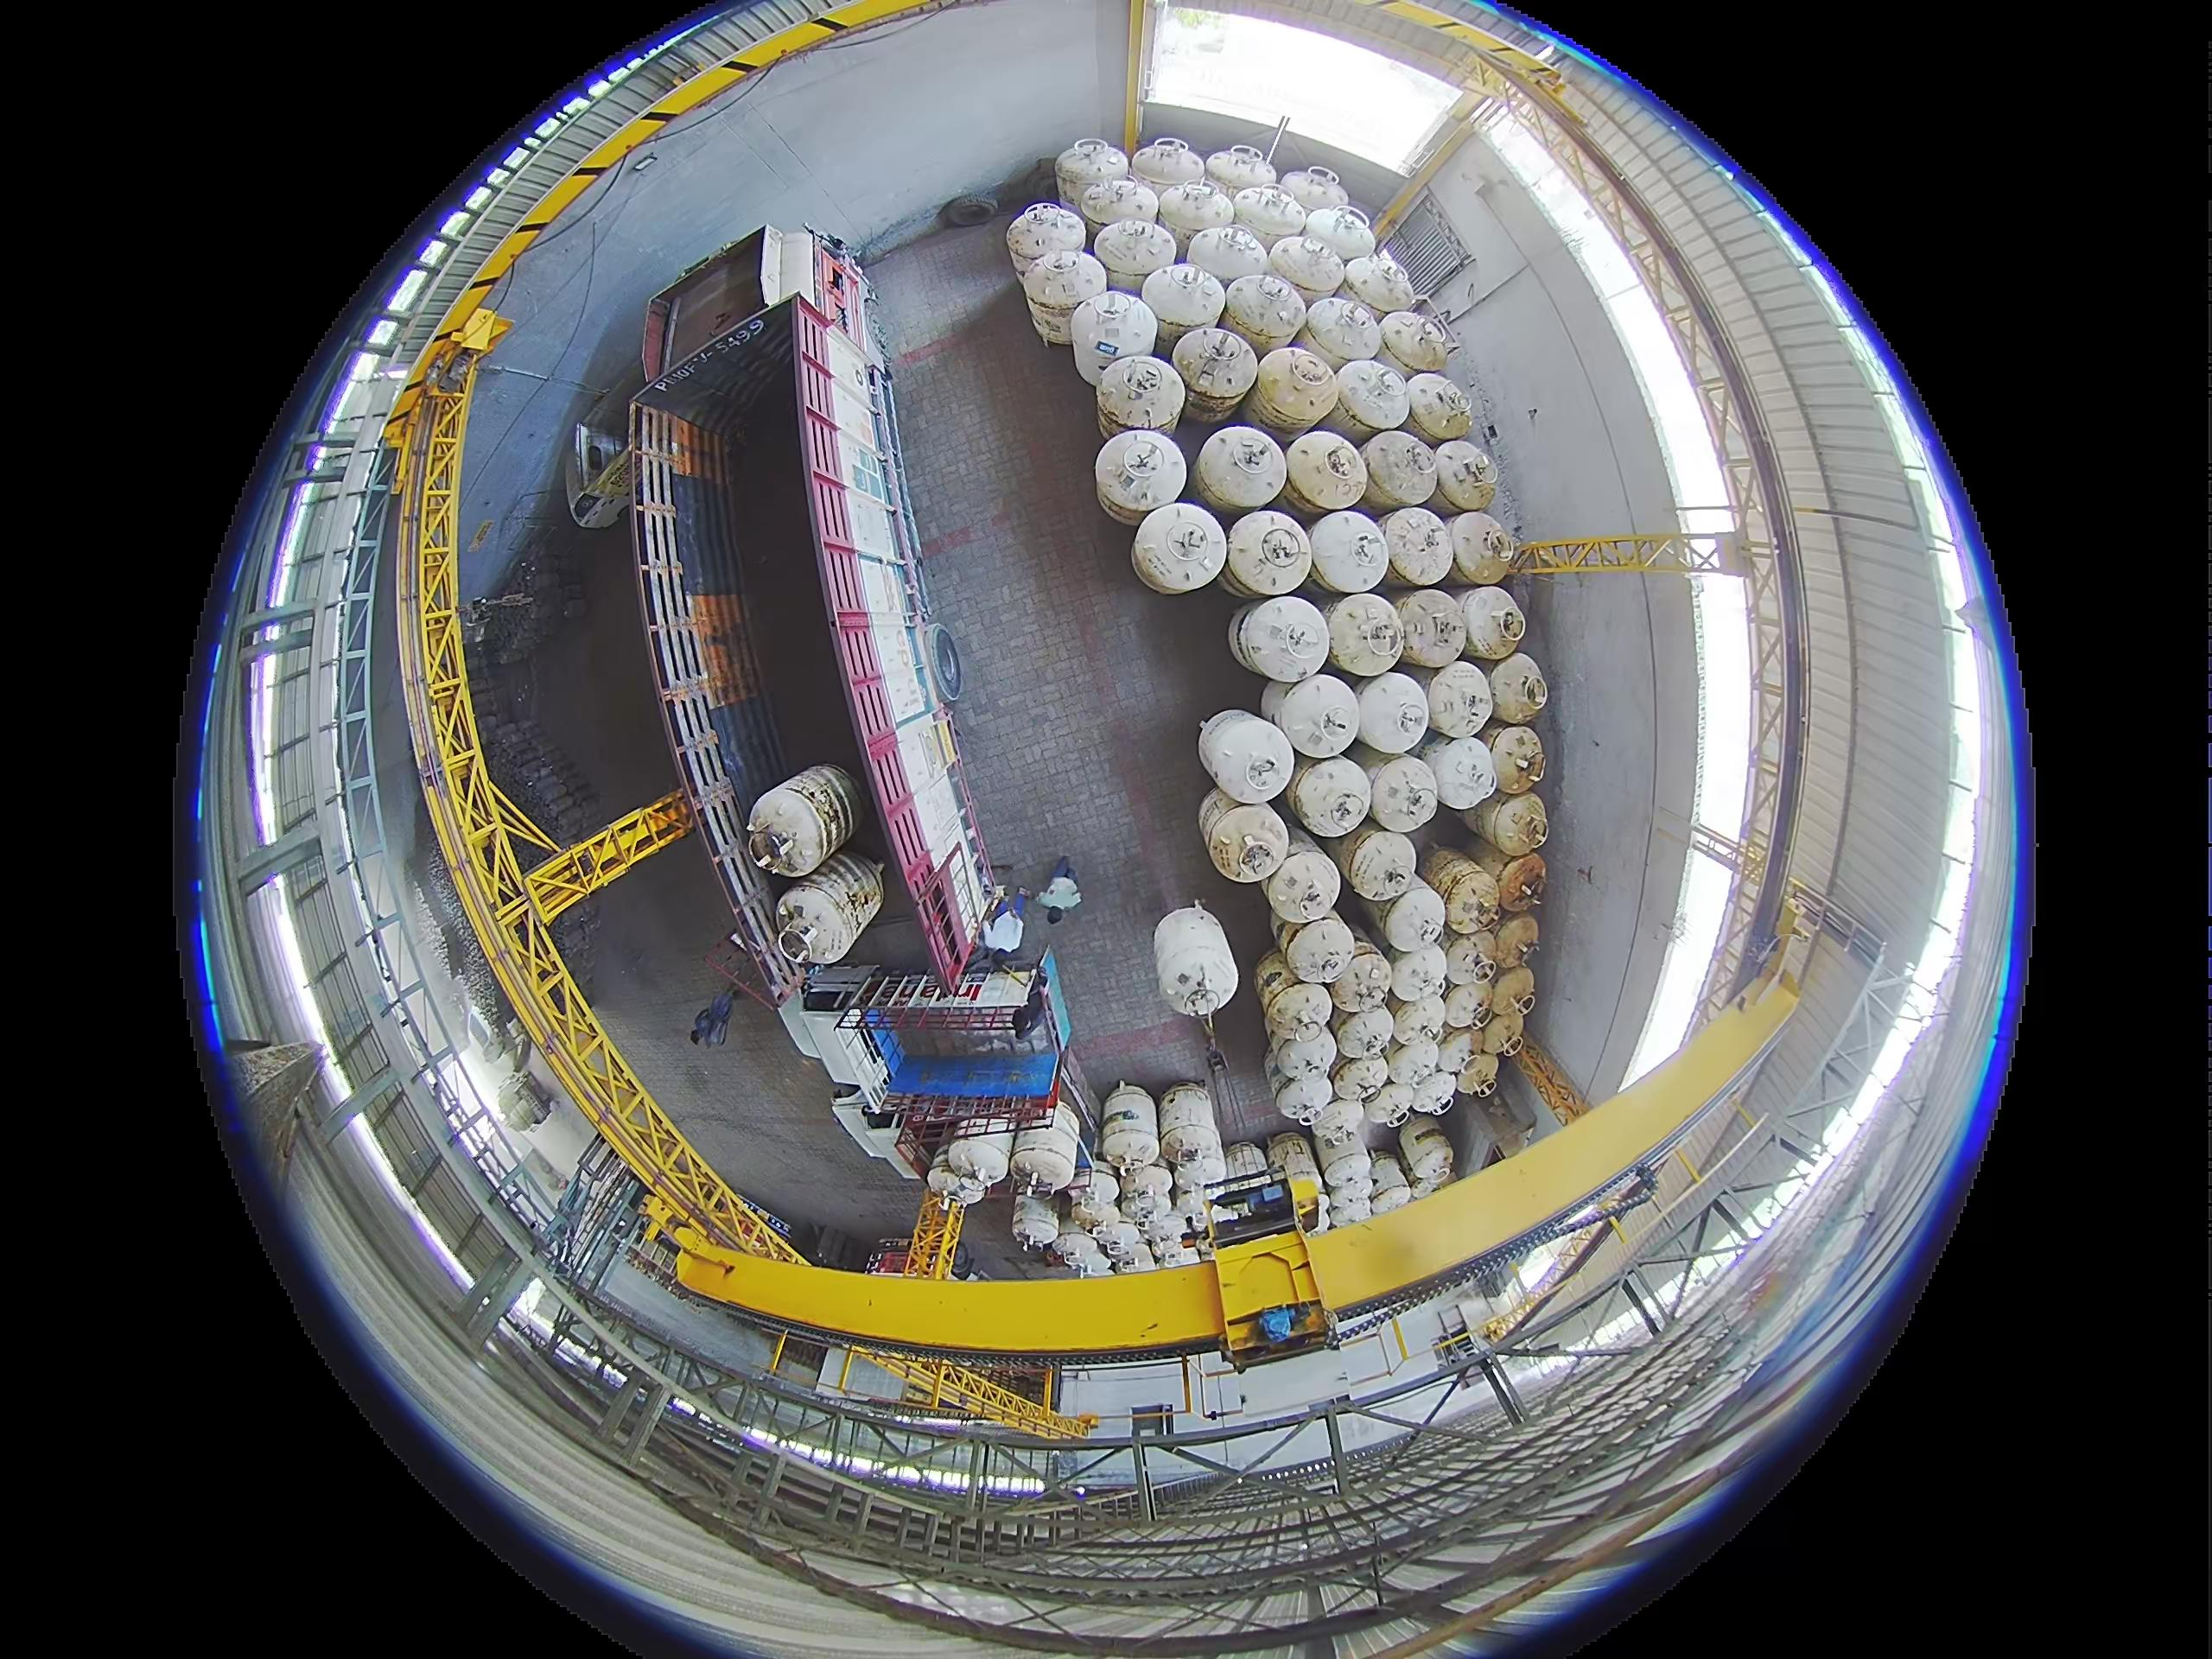cylinder: (718, 770, 876, 880), (1151, 903, 1231, 1021), (1200, 709, 1294, 803), (1233, 594, 1329, 687), (1130, 502, 1226, 594), (1094, 430, 1184, 528), (1271, 669, 1364, 762), (1195, 425, 1287, 518), (1200, 795, 1292, 884), (1252, 347, 1341, 437), (1170, 326, 1258, 416), (1224, 511, 1313, 598), (1014, 247, 1092, 343), (1284, 430, 1369, 518), (1069, 293, 1153, 382), (1306, 509, 1392, 594), (1096, 352, 1181, 437), (1141, 261, 1226, 347), (1221, 272, 1308, 354), (1324, 592, 1407, 676), (1289, 755, 1372, 838), (1264, 845, 1346, 927), (1336, 823, 1418, 903), (1353, 673, 1432, 756), (1362, 429, 1440, 511), (1332, 355, 1411, 437), (1188, 221, 1273, 295), (1421, 734, 1498, 814), (1392, 589, 1468, 669), (1423, 659, 1498, 741), (1282, 917, 1362, 992), (1381, 505, 1456, 586), (1303, 295, 1383, 369), (1366, 755, 1440, 833), (1055, 138, 1130, 213), (1420, 847, 1493, 924), (1155, 179, 1233, 251), (1096, 218, 1176, 288), (1158, 1082, 1223, 1164), (1458, 586, 1527, 660), (1379, 878, 1449, 953), (1400, 371, 1470, 446), (1268, 232, 1345, 300), (1083, 178, 1162, 244), (1449, 511, 1519, 584), (1378, 310, 1451, 380), (1007, 202, 1083, 268), (1233, 185, 1310, 251), (1339, 251, 1416, 315), (1301, 204, 1378, 268), (1432, 439, 1500, 511), (1129, 138, 1204, 202), (1482, 725, 1547, 798), (1482, 652, 1547, 723), (1484, 789, 1550, 857), (1264, 979, 1334, 1044), (1327, 948, 1393, 1012), (1397, 1117, 1454, 1188), (1386, 948, 1449, 1011), (1207, 145, 1278, 199), (1270, 1030, 1332, 1089), (1385, 1035, 1444, 1096), (1271, 1070, 1334, 1127), (1332, 1007, 1395, 1065), (1278, 167, 1348, 218), (1442, 932, 1500, 992), (1496, 852, 1548, 915), (1312, 1096, 1367, 1154), (1331, 1054, 1390, 1108), (1475, 1006, 1529, 1063), (1254, 951, 1299, 1018), (1486, 964, 1536, 1021), (1259, 676, 1308, 735), (1442, 981, 1496, 1033), (1122, 1164, 1177, 1213), (1364, 1080, 1420, 1129), (1493, 913, 1541, 969), (1266, 1133, 1317, 1185), (1282, 828, 1336, 873), (1366, 1155, 1411, 1208), (1409, 1070, 1458, 1117), (1271, 911, 1318, 960), (1322, 1150, 1372, 1194), (1172, 1173, 1219, 1218), (1221, 1141, 1270, 1183), (1458, 1051, 1500, 1098), (1433, 1028, 1475, 1075), (1325, 1188, 1372, 1227), (1162, 1239, 1205, 1269), (1298, 1194, 1331, 1232)
truck: (631, 228, 995, 990), (772, 969, 1075, 1127), (643, 221, 846, 418), (824, 1100, 1113, 1209), (1101, 1077, 1160, 1173)
